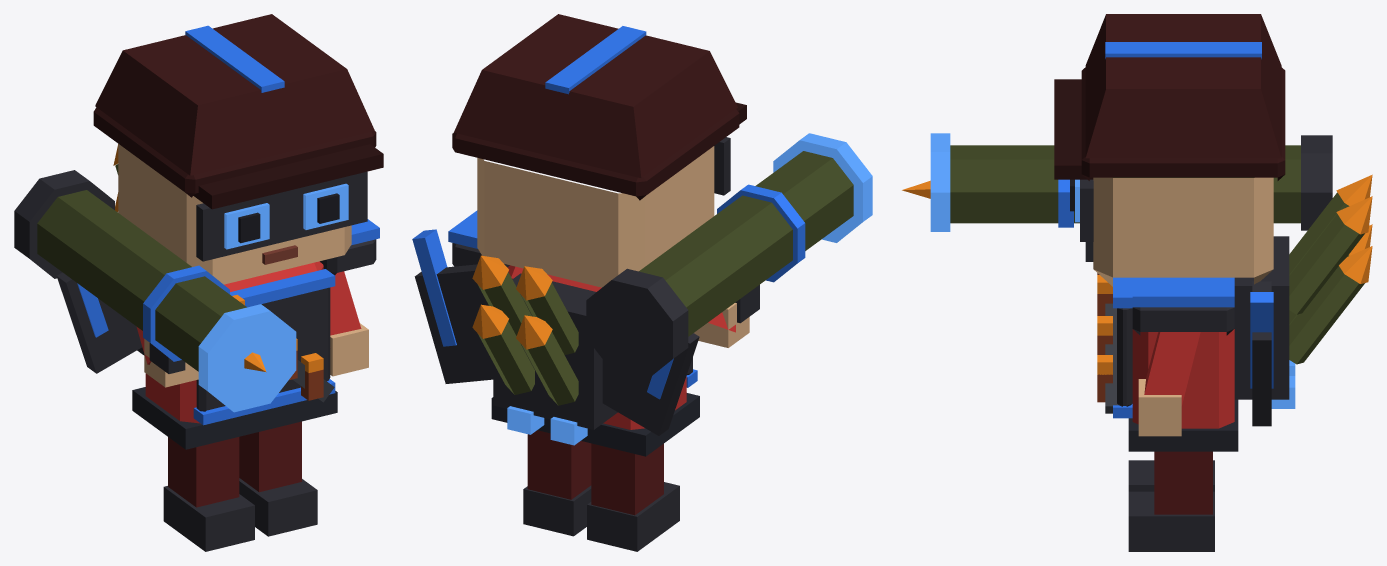
The model's file is rocket_soldier_super_rare.glb.
3 renders of one model, left to right at view 1: azimuth 30°, elevation 25°; view 2: azimuth 150°, elevation 25°; view 3: azimuth 270°, elevation 25°, orthographic. The views are drawn at different scales.
Visible parts, largest first — view 1: rocket_soldier_super_rare_mesh; view 2: rocket_soldier_super_rare_mesh; view 3: rocket_soldier_super_rare_mesh.
Part boxes in pixels (x1=…): rocket_soldier_super_rare_mesh: x1=14, y1=14, x2=383, y2=551; rocket_soldier_super_rare_mesh: x1=412, y1=14, x2=872, y2=551; rocket_soldier_super_rare_mesh: x1=902, y1=14, x2=1372, y2=551.
Size of the model in its own units: 0.8434 by 1.3 by 1.17.
2 materials, 2 textured.
